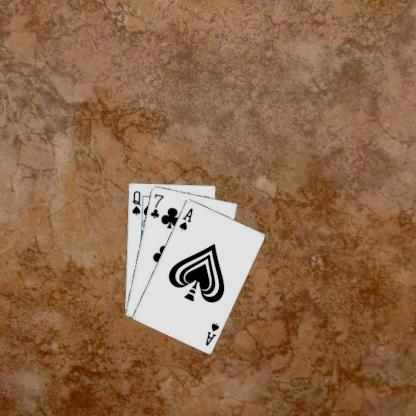7C: (148, 191, 165, 219)
AS: (176, 205, 194, 231), (203, 320, 220, 347)
QS: (129, 188, 142, 216)
